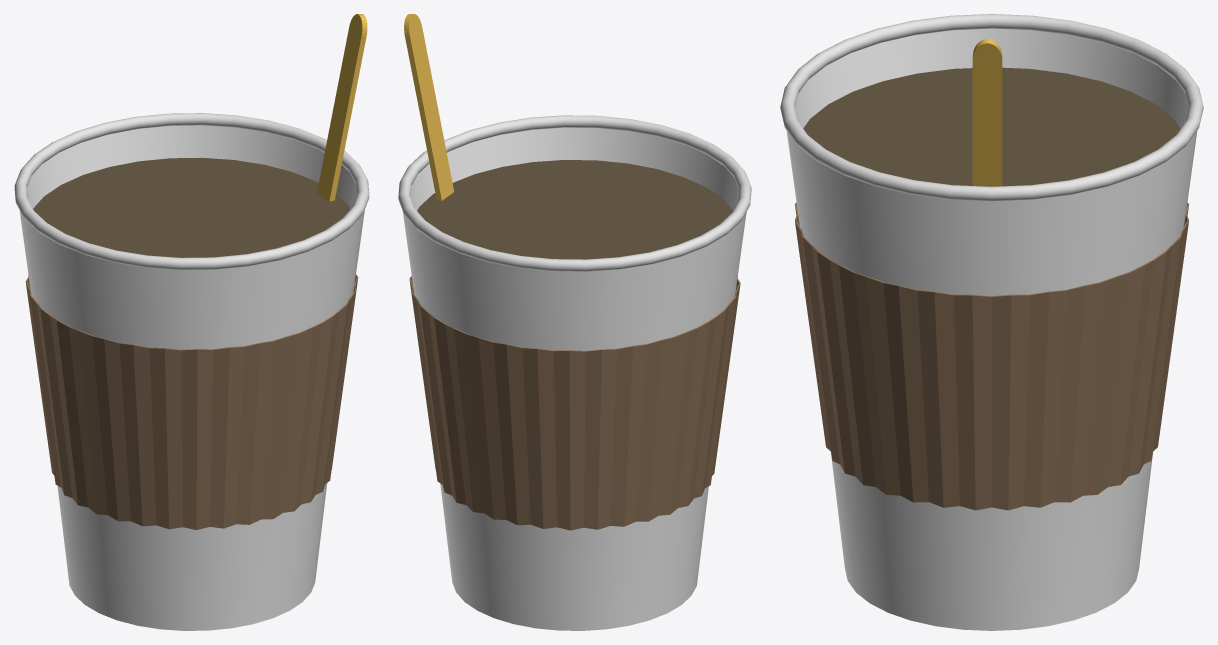
The model's file is CoffeCup.fbx.
The picture shows the model from 3 angles, left to right: view 1: azimuth 30°, elevation 25°; view 2: azimuth 150°, elevation 25°; view 3: azimuth 270°, elevation 25°; orthographic projection. The views are drawn at different scales.
Visible parts, largest first — view 1: Circle, Circle.001, Circle.002, Torus.002, Cylinder; view 2: Circle, Circle.001, Circle.002, Torus.002, Cylinder; view 3: Circle, Circle.001, Circle.002, Torus.002, Cylinder.
Boxes of the visible parts, left/top/right/bottom form: Circle: left=19, top=125, right=364, bottom=630; Circle.001: left=25, top=274, right=358, bottom=529; Circle.002: left=33, top=157, right=350, bottom=257; Torus.002: left=14, top=113, right=369, bottom=269; Cylinder: left=317, top=14, right=367, bottom=201; Circle: left=402, top=127, right=746, bottom=630; Circle.001: left=409, top=276, right=740, bottom=530; Circle.002: left=417, top=160, right=732, bottom=259; Torus.002: left=398, top=115, right=751, bottom=271; Cylinder: left=404, top=14, right=454, bottom=200; Circle: left=786, top=28, right=1197, bottom=630; Circle.001: left=795, top=202, right=1188, bottom=510; Circle.002: left=803, top=67, right=1180, bottom=186; Torus.002: left=780, top=14, right=1203, bottom=201; Cylinder: left=972, top=39, right=1002, bottom=186.
Bounding box in the file's own units: 303 × 469 × 288.
